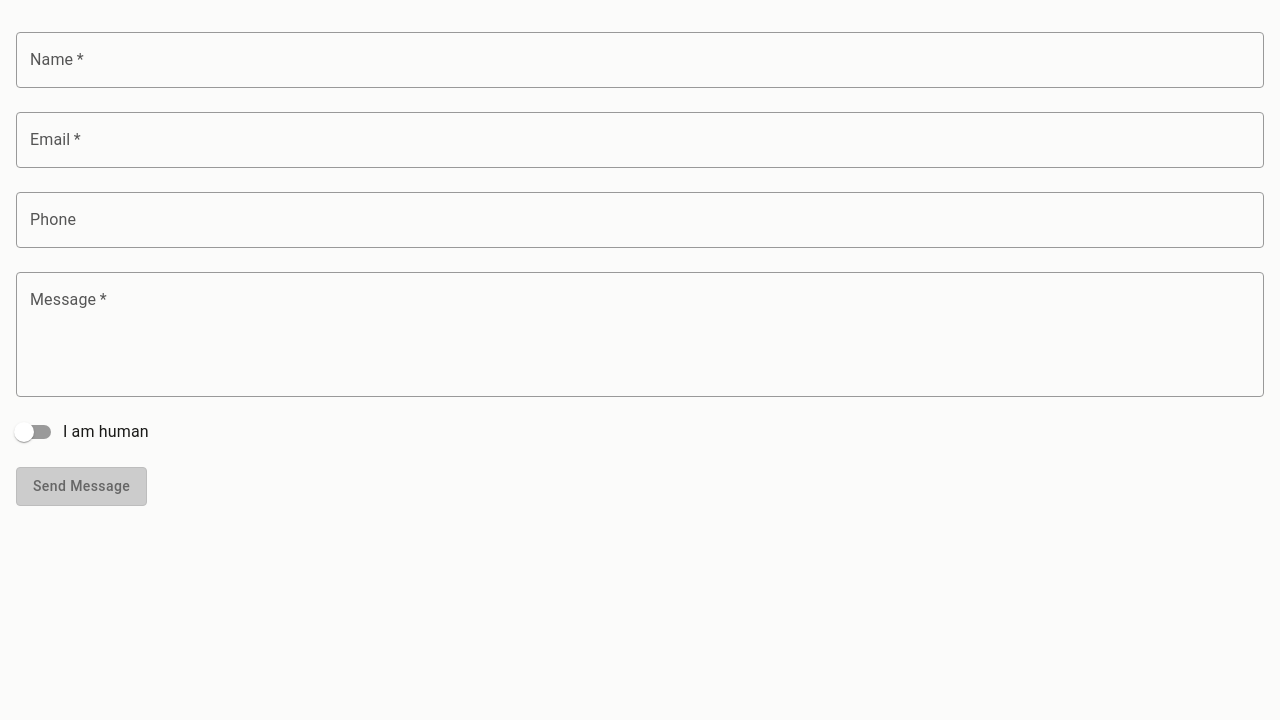
Test case: ContactForm › enables submit button when all required fields are filled and human toggle is on
This screenshot has width=1280, height=720.
Type "John Doe" into the field labelled "Name *" at [640, 60], box [16,32,1264,88]
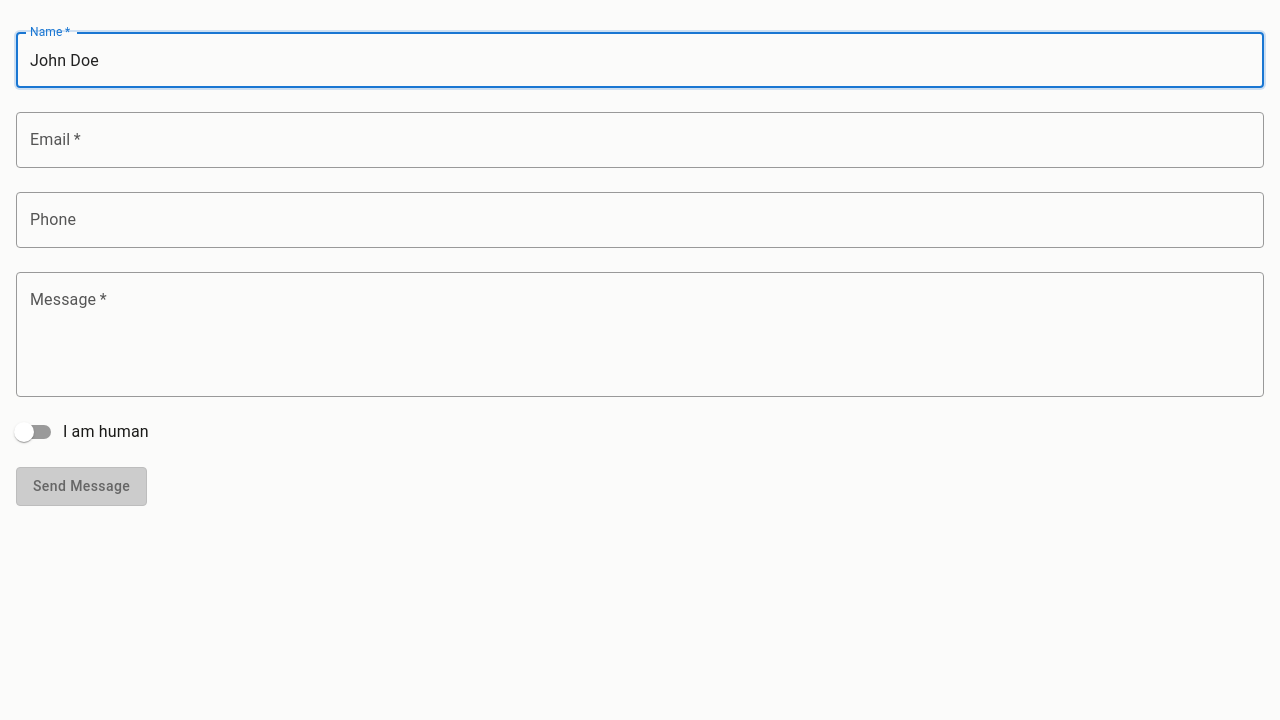
Type "john@example.com" into the field labelled "Email *" at [640, 140], box [16,112,1264,168]
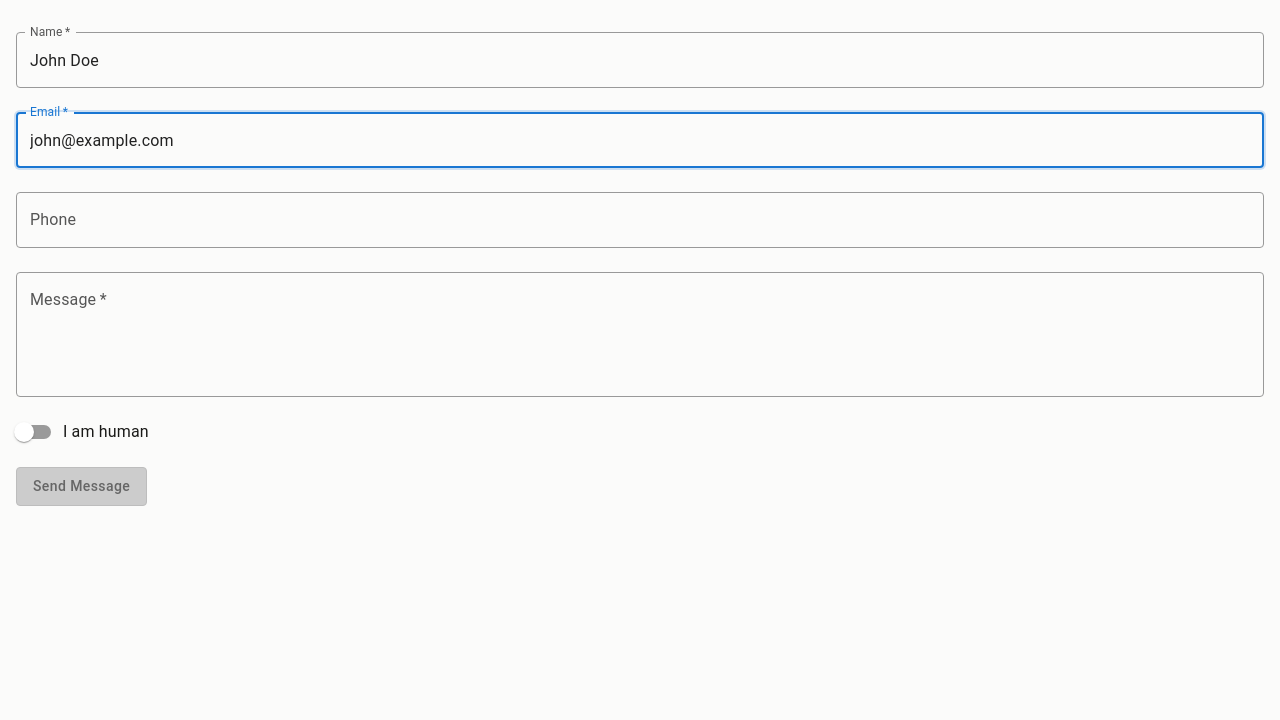
Type "Hello there!" into the text box labelled "Message *" at [640, 334], box [30,288,1250,380]
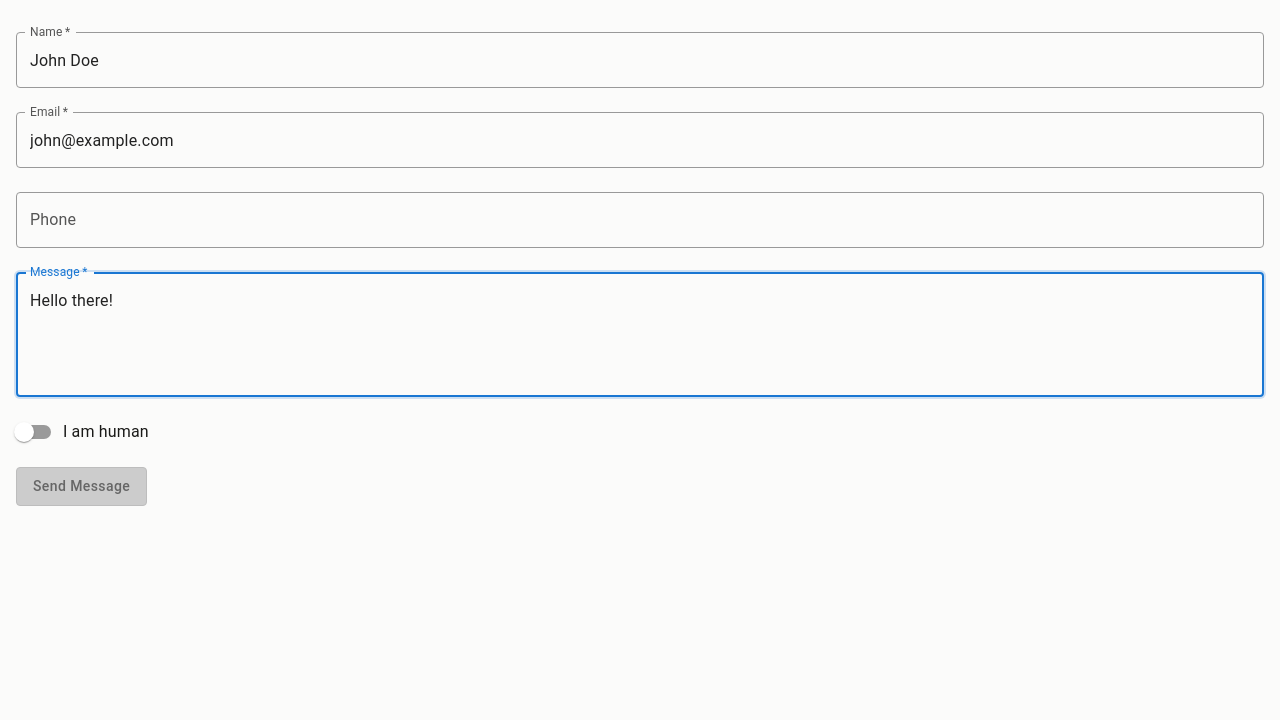
Click the switch labelled "I am human" at [81, 432], box [14,422,149,442]
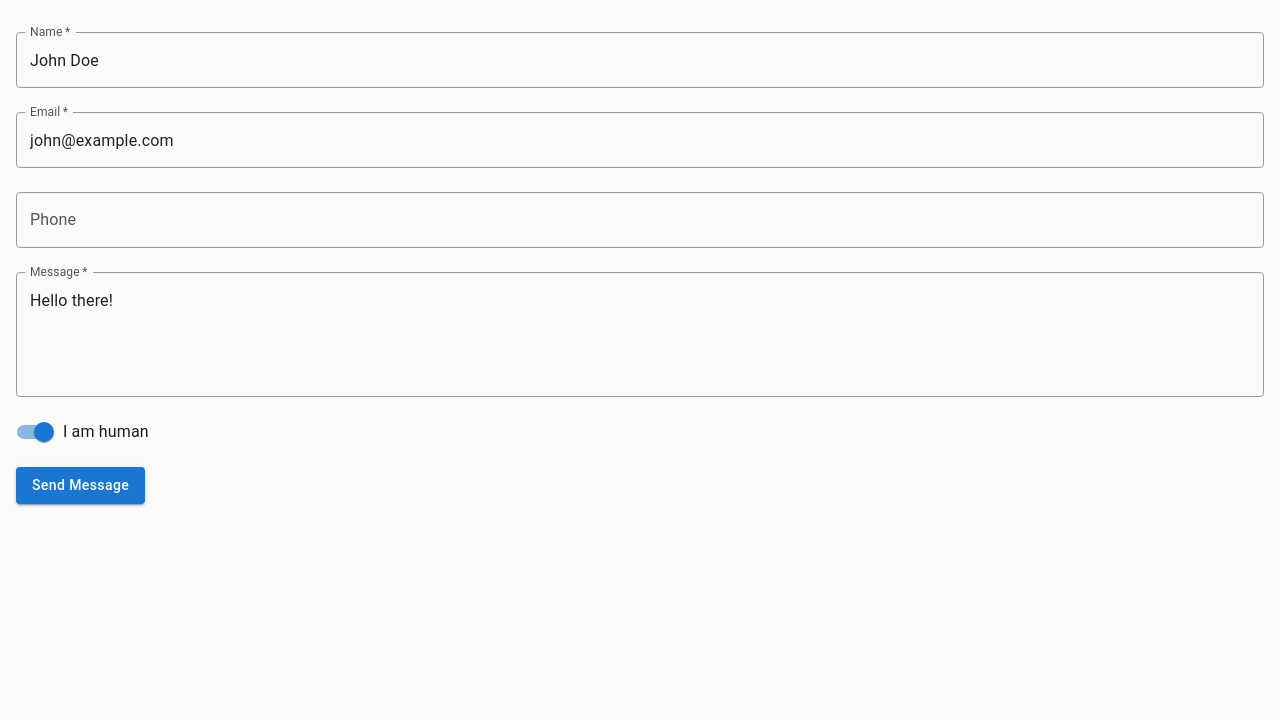
expect the button "Send Message" is enabled: met, box [16,467,145,504]
